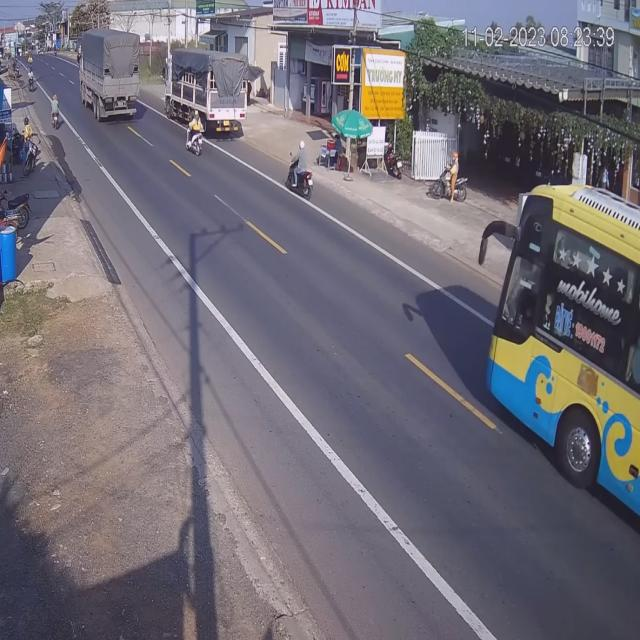bus: (490, 192, 640, 530)
motorbike: (285, 148, 314, 202), (188, 111, 205, 156), (49, 95, 61, 129)
truck: (164, 46, 247, 129), (78, 28, 138, 120)
